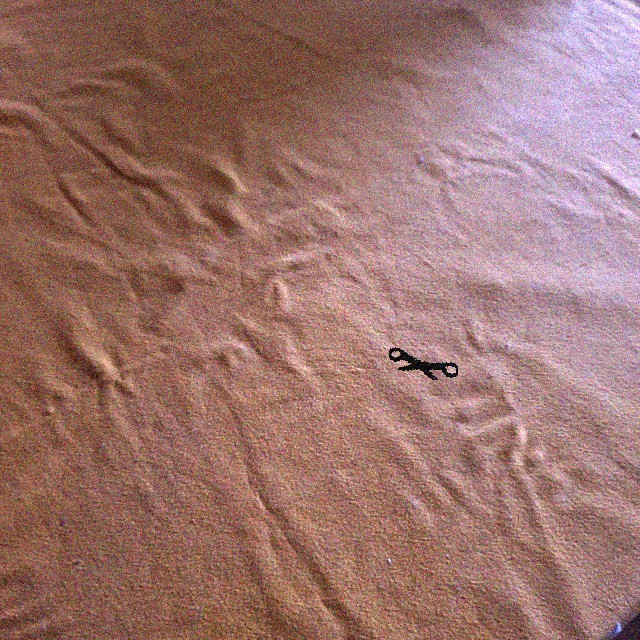scissors: (389, 347, 458, 380)
